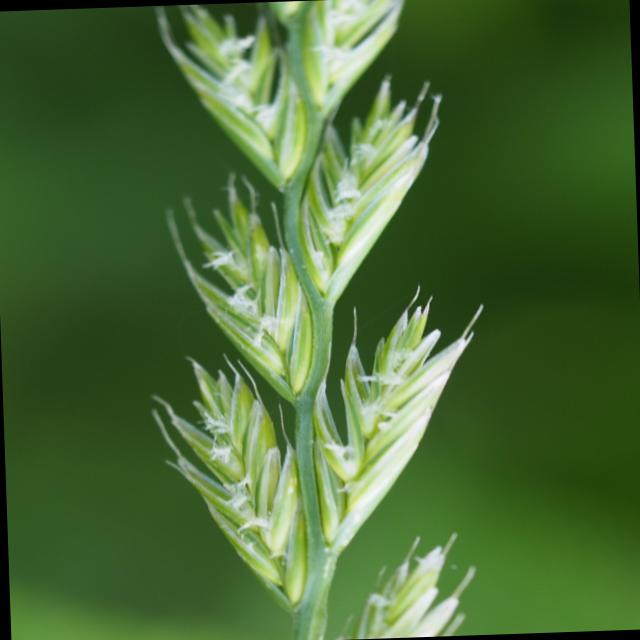Lolium: (133, 0, 497, 640)
